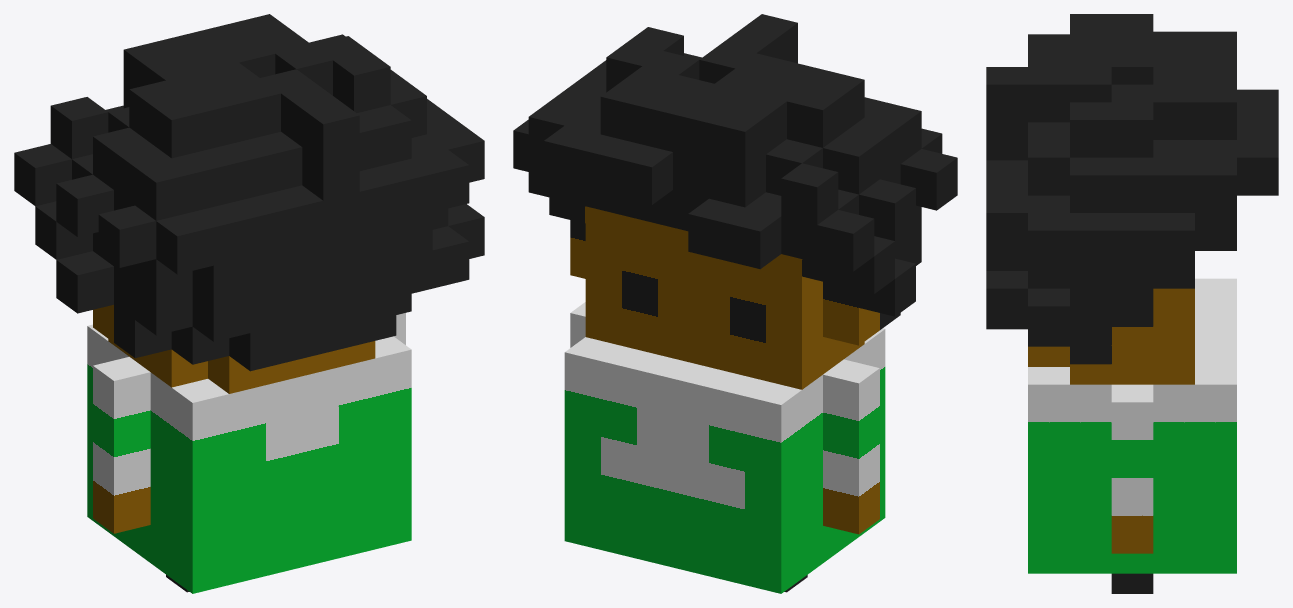
Rendered from chr_sports3.dae.
3 renders of one model, left to right at view 1: azimuth 30°, elevation 25°; view 2: azimuth 150°, elevation 25°; view 3: azimuth 270°, elevation 25°, orthographic.
Parts seen in each view (by area): view 1: chr_sports3; view 2: chr_sports3; view 3: chr_sports3.
Boxes of the visible parts, bbox=[...] form: chr_sports3: bbox=[14, 14, 484, 593]; chr_sports3: bbox=[513, 14, 957, 593]; chr_sports3: bbox=[986, 14, 1278, 593].
Size of the model in its own units: 1 by 0.7 by 1.3.
